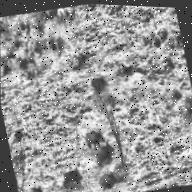boar: (87, 136, 126, 178), (79, 119, 111, 154), (59, 160, 88, 192), (23, 179, 48, 192)
